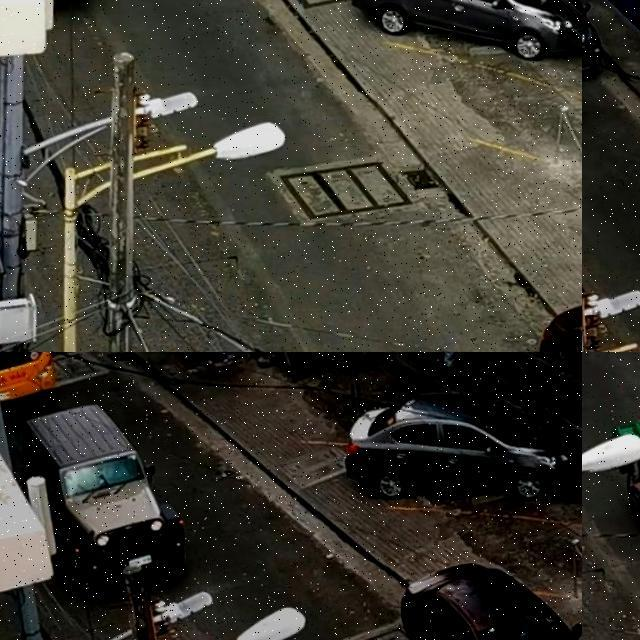Others: (0, 352, 58, 405)
